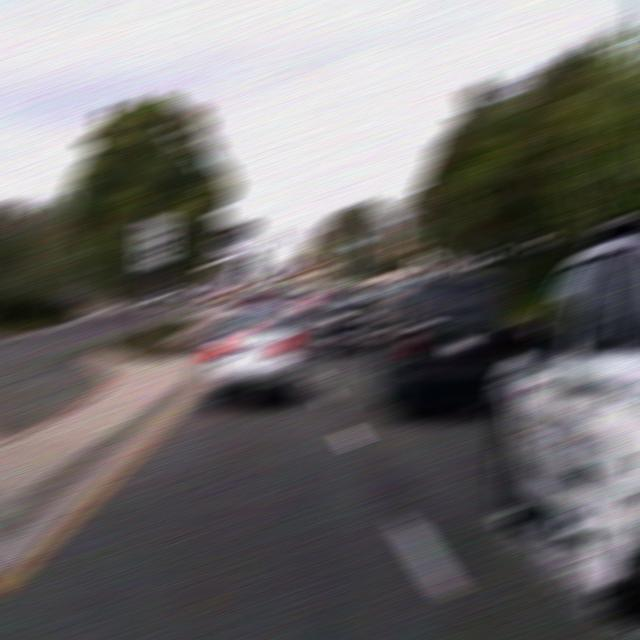speedLimit45: (135, 216, 175, 265)
